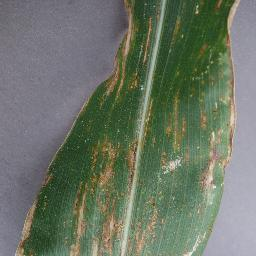Gray_Leaf_Spot: (64, 136, 138, 256), (101, 5, 158, 103), (225, 0, 244, 186), (154, 91, 188, 179), (196, 114, 224, 195), (10, 185, 35, 256), (138, 195, 164, 256), (184, 226, 210, 256), (172, 12, 182, 47), (145, 106, 155, 140), (42, 166, 54, 188), (195, 41, 206, 57), (215, 0, 224, 12)
